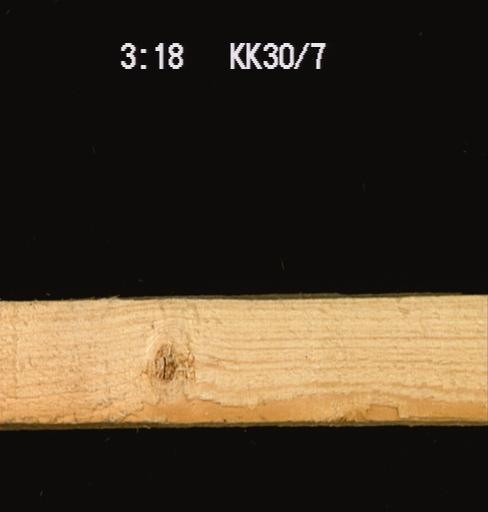sound_knot: (148, 336, 186, 386)
